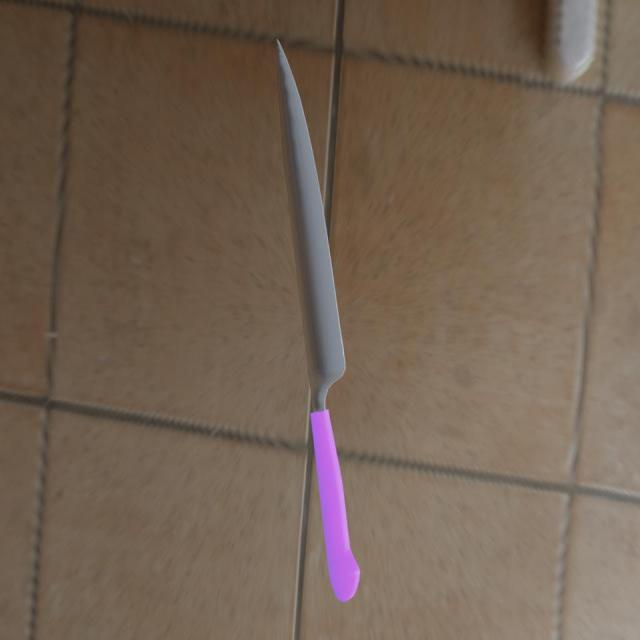knife: (310, 406, 360, 603)
